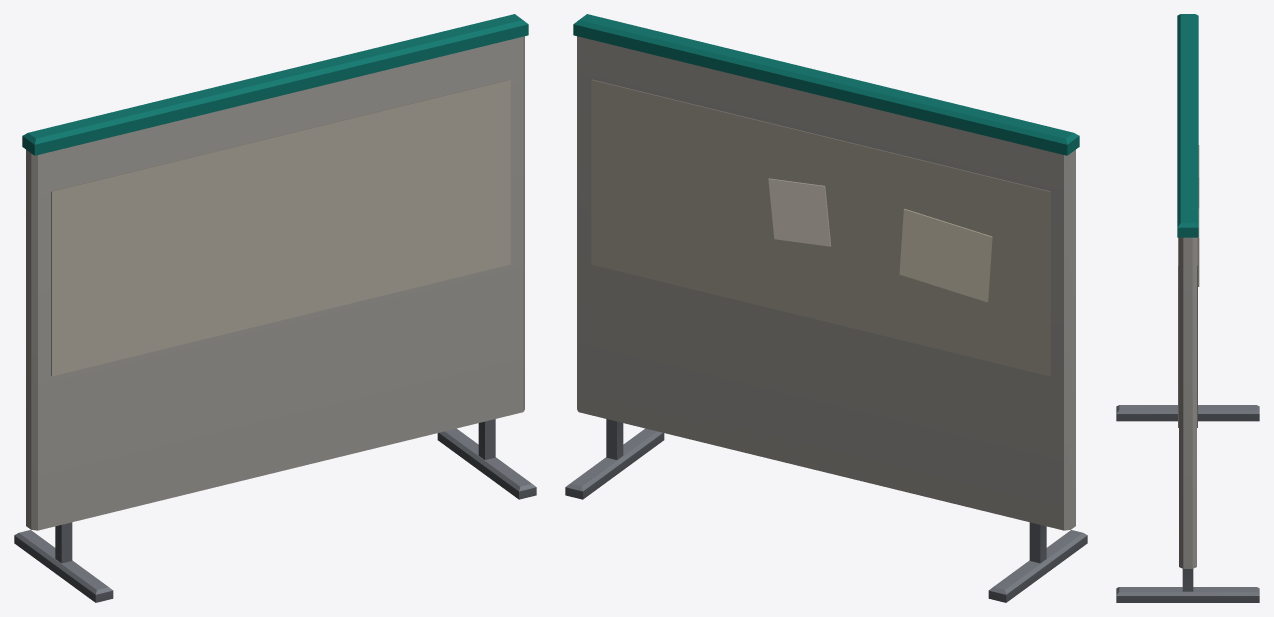
Rendered from partition_low_01.glb.
3 renders of one model, left to right at view 1: azimuth 30°, elevation 25°; view 2: azimuth 150°, elevation 25°; view 3: azimuth 270°, elevation 25°, orthographic. The views are drawn at different scales.
Parts seen in each view (by area): view 1: partition_low_01_mesh; view 2: partition_low_01_mesh; view 3: partition_low_01_mesh.
Part boxes in pixels (box(x1,y1,x2,y2)): partition_low_01_mesh: box(14, 14, 536, 602); partition_low_01_mesh: box(565, 14, 1087, 602); partition_low_01_mesh: box(1116, 14, 1259, 602).
Size of the model in its own units: 1.4 by 1.2 by 0.4.
Materials: 1 (1 with a texture image).
